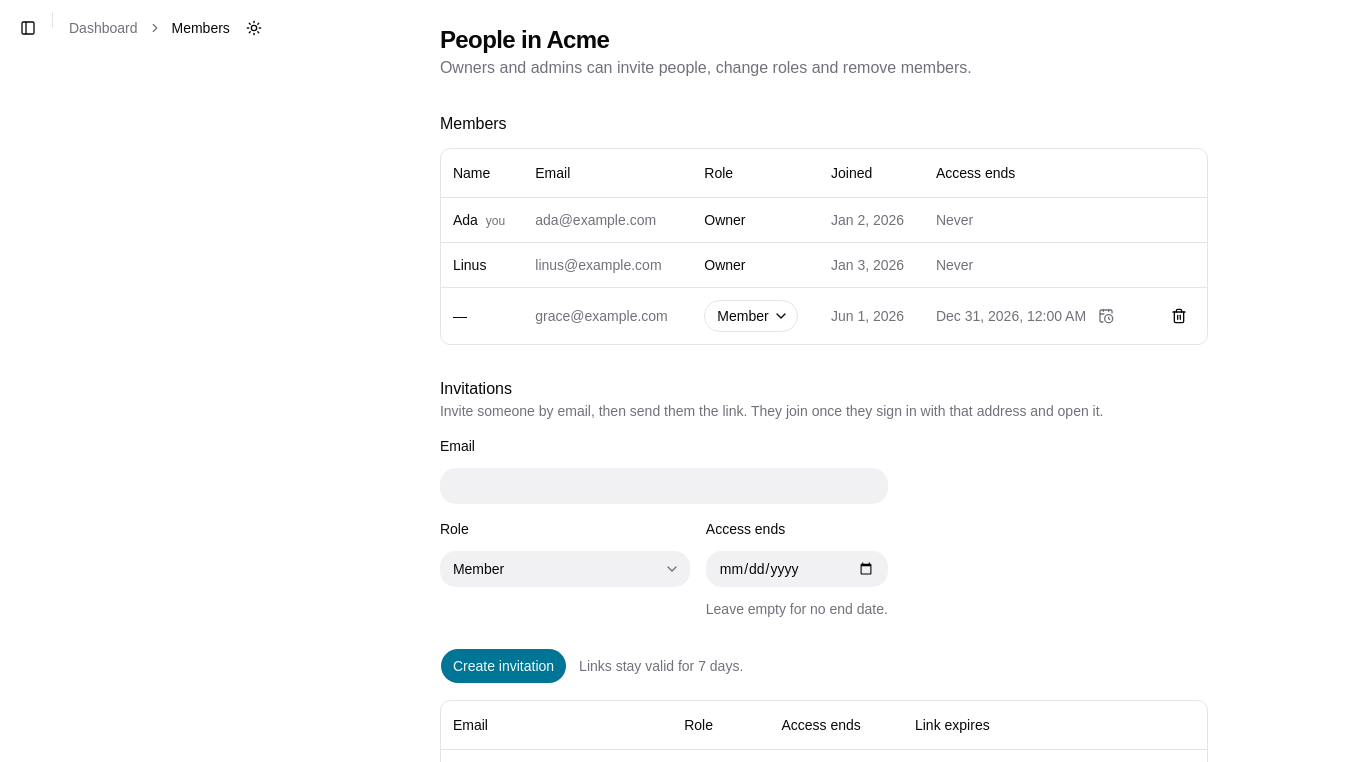
Test: MembersPage › never lets an admin reach an owner or offer the owner role
Expected: the text "Linus" is shown, top-left (441, 242), bottom-right (523, 287)
Click the button with aria-label "Change role for grace@example.com".
click(751, 316)  # box top-left (704, 300), bottom-right (798, 332)
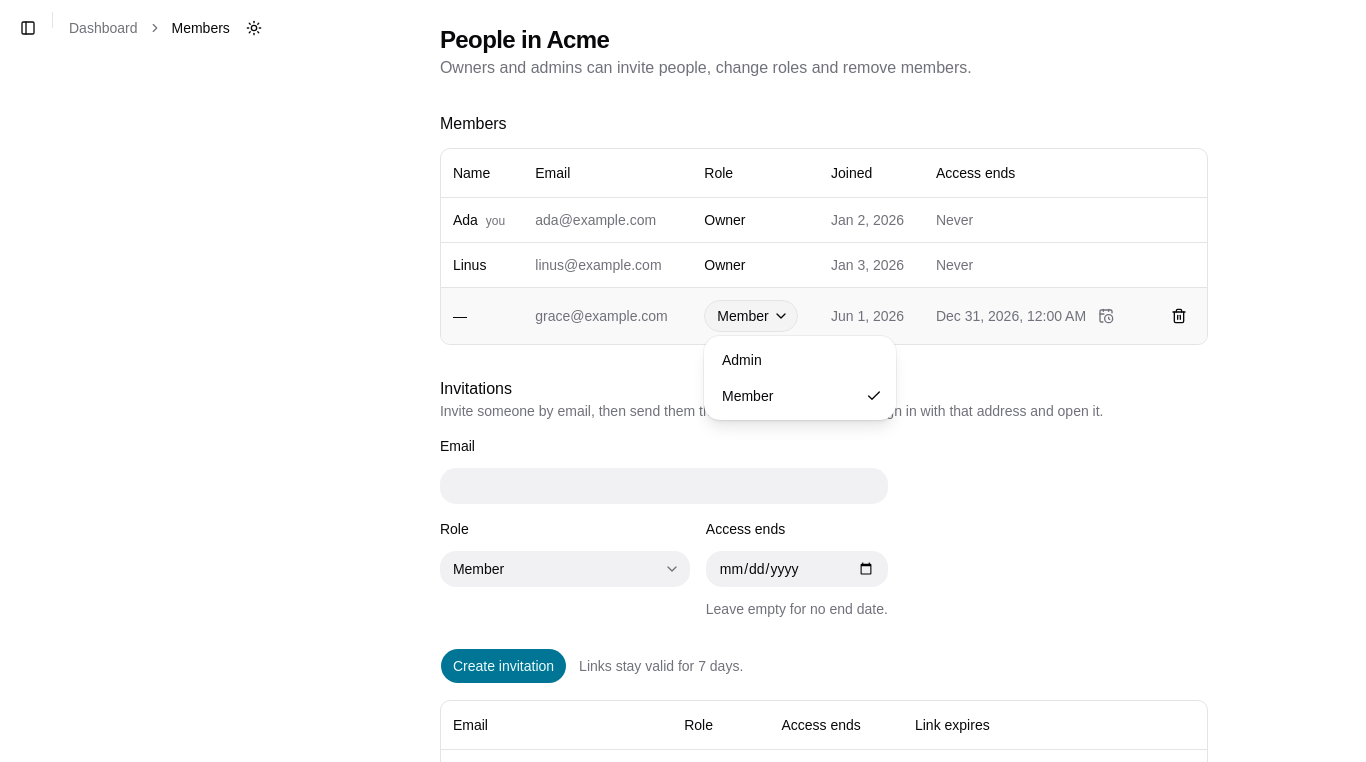
Expected: the menu item "Admin" is shown, top-left (722, 352), bottom-right (762, 368)
